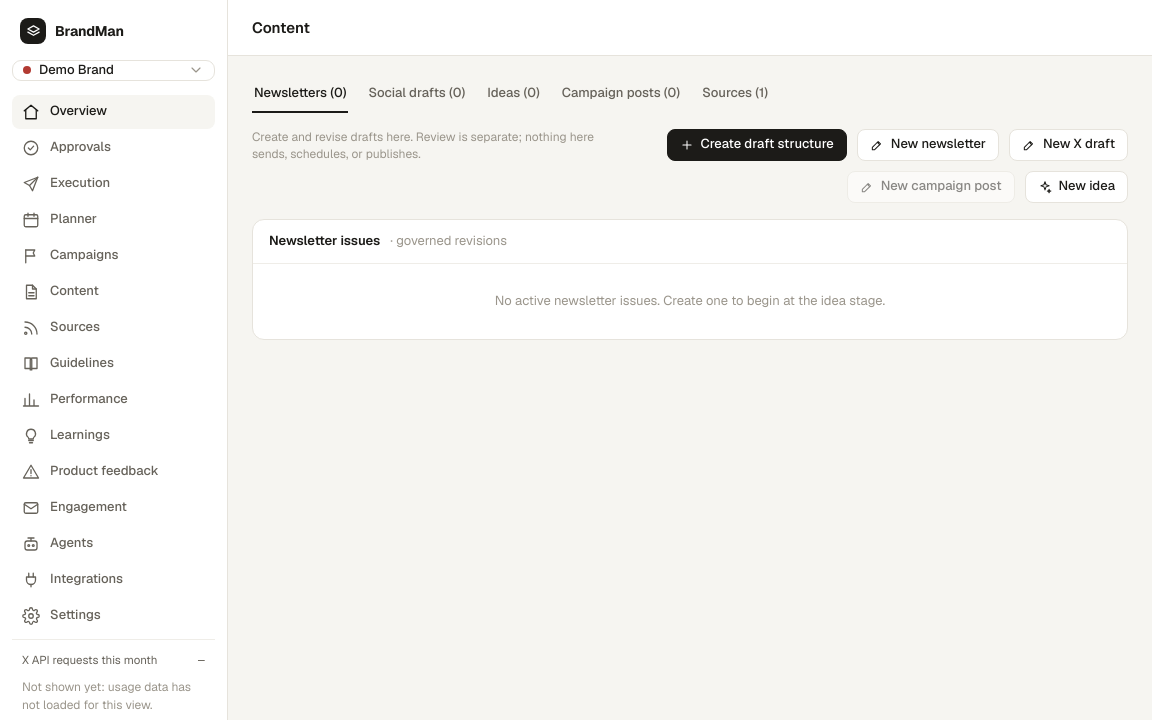
Test: Content authoring flows › shows the selected editorial idea history without mutating it
The width and height of the screenshot is (1152, 720).
Click the button "Ideas (0)".
click(514, 94)  # box top-left (485, 76), bottom-right (542, 113)
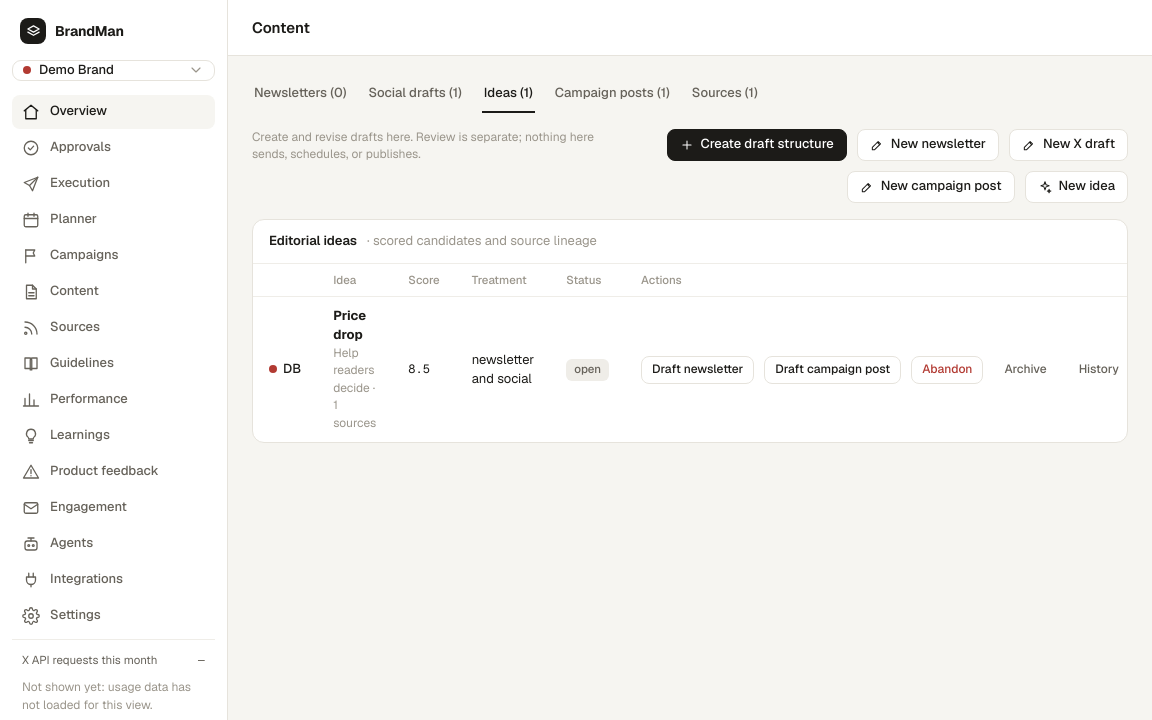
Click the button "History".
click(1099, 370)  # box top-left (1068, 356), bottom-right (1130, 384)
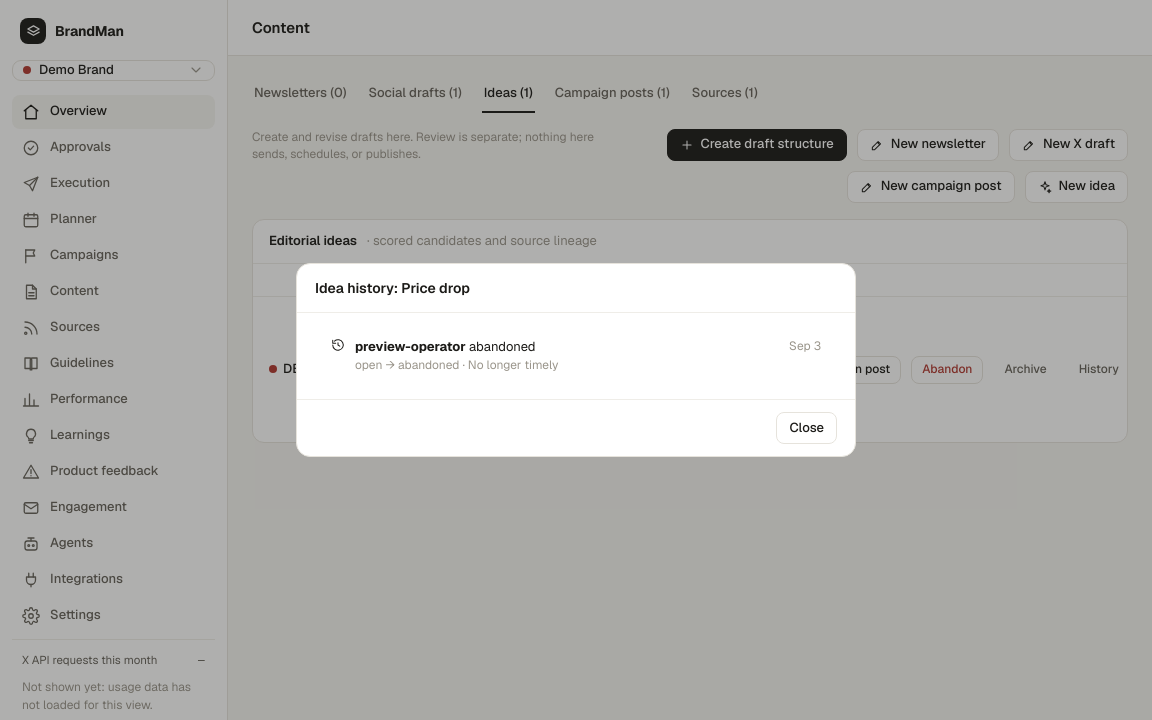
Expected: the text "open → abandoned · No longer timely" is shown, top-left (355, 357), bottom-right (558, 374)
